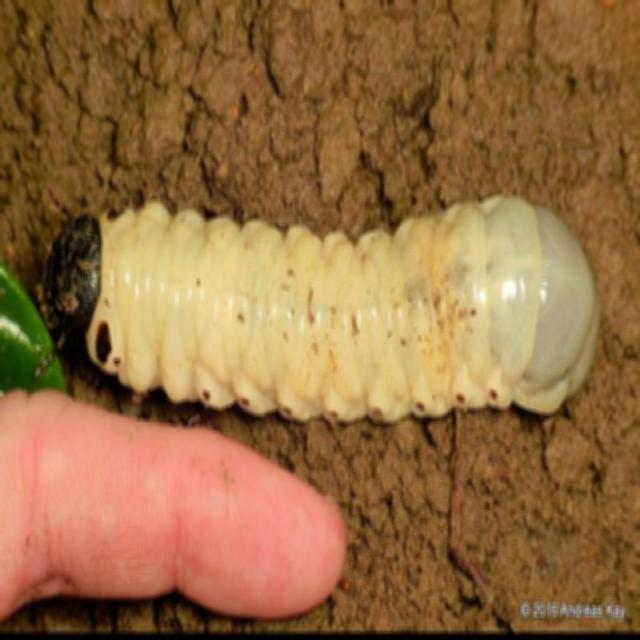grub: (38, 189, 612, 426)
